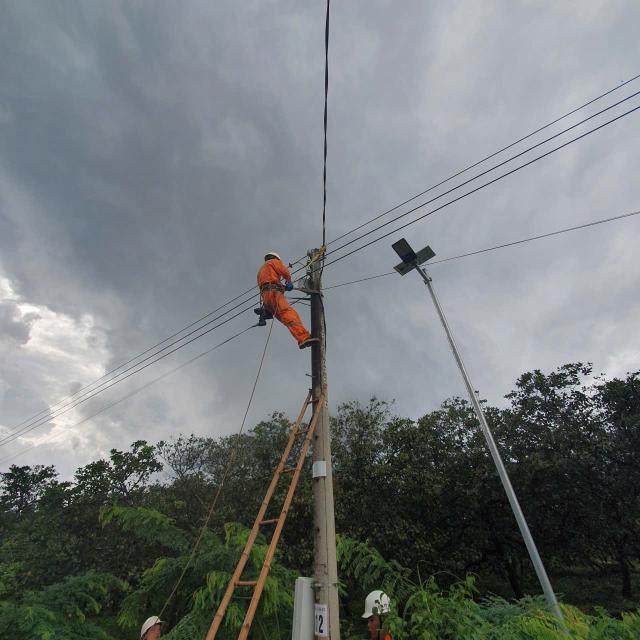harness: (257, 283, 297, 292)
helmet: (263, 249, 291, 267)
shoes: (294, 336, 326, 349)
